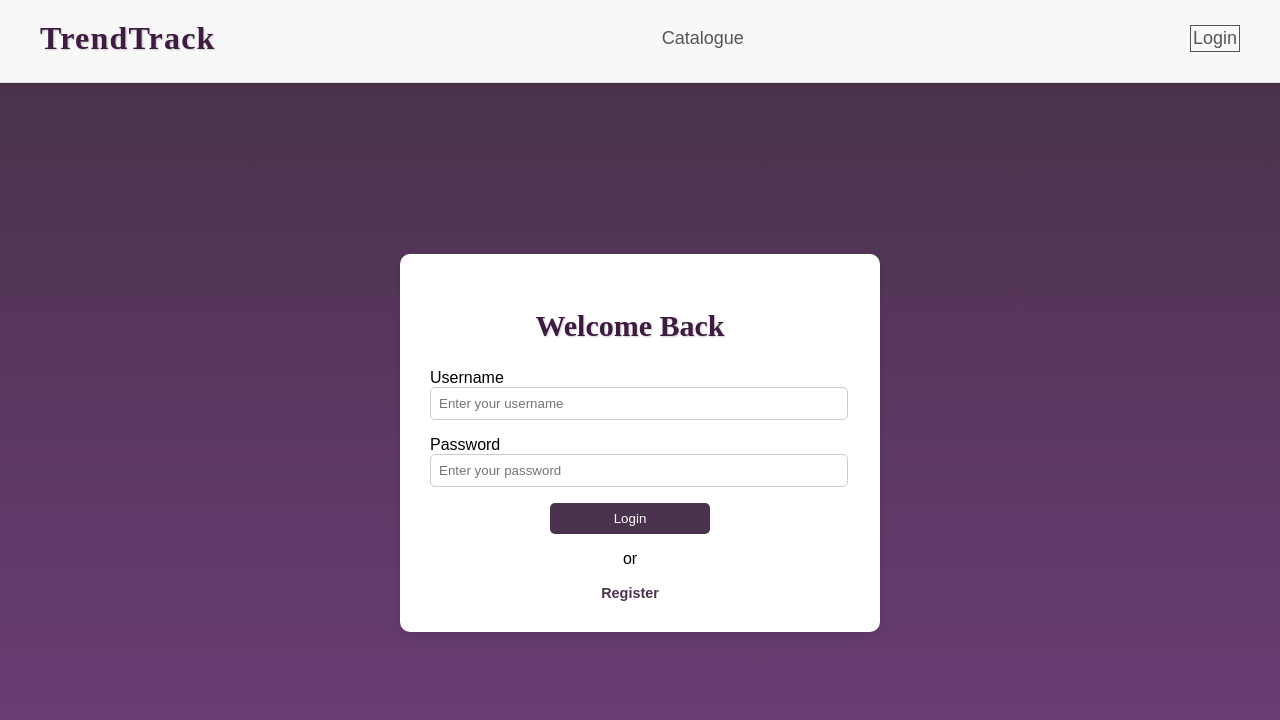
Authentication Flow › Validates registration form fields
The width and height of the screenshot is (1280, 720).
Click the text "Register".
click(630, 593)  # box top-left (601, 585), bottom-right (659, 601)
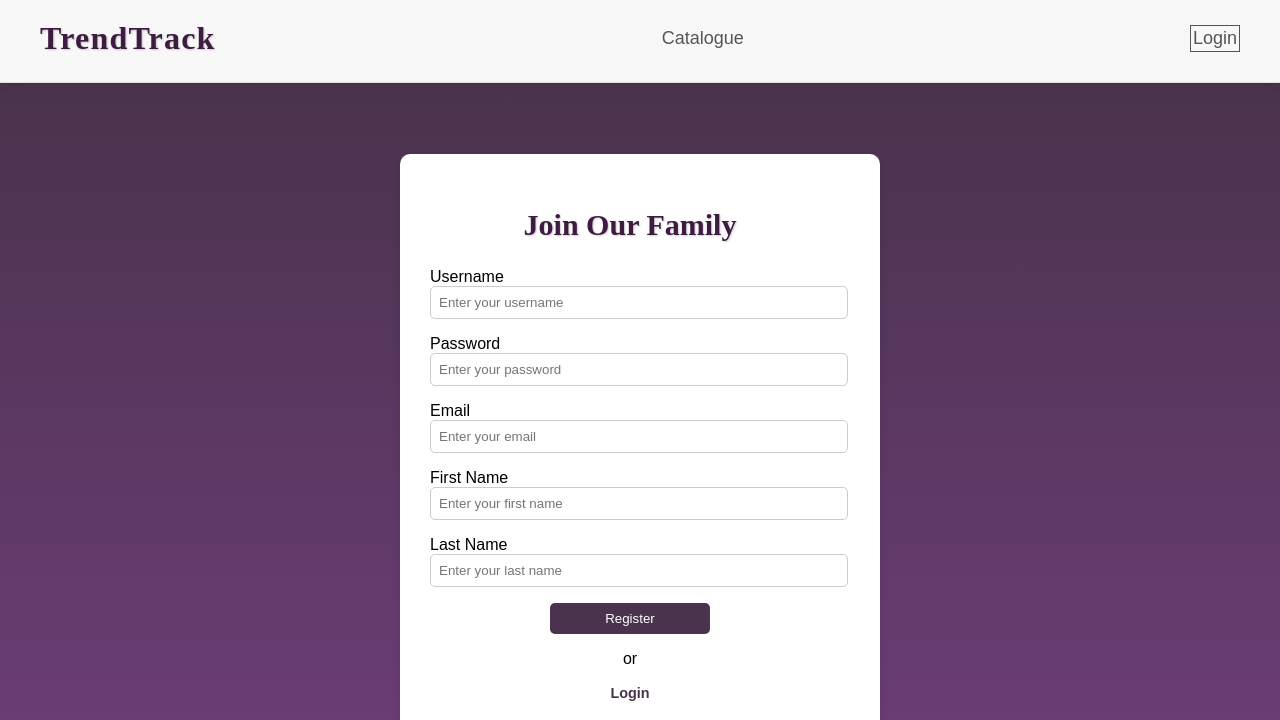
Click the submit button.
click(630, 619)  # box top-left (550, 603), bottom-right (710, 634)
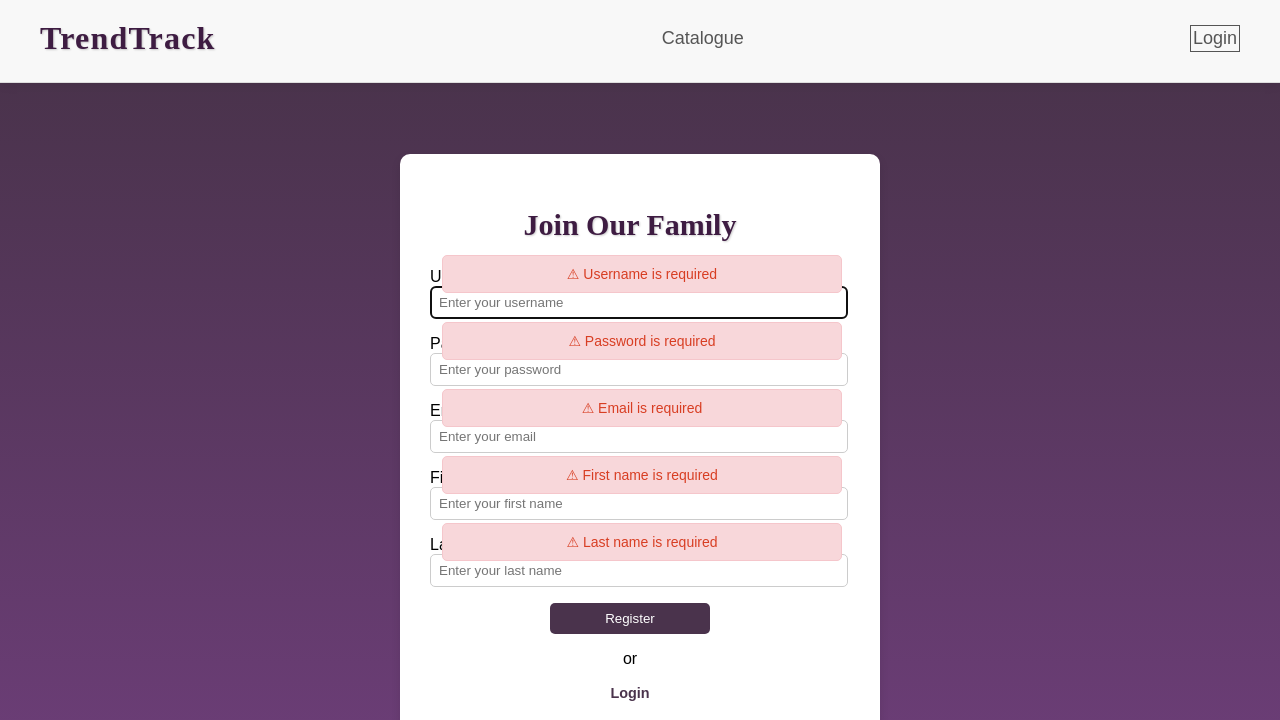
expect the text "Username is required" is shown: met, box top-left (442, 254), bottom-right (842, 292)
expect the text "Password is required" is shown: met, box top-left (442, 322), bottom-right (842, 360)
expect the text "Email is required" is shown: met, box top-left (442, 388), bottom-right (842, 426)
